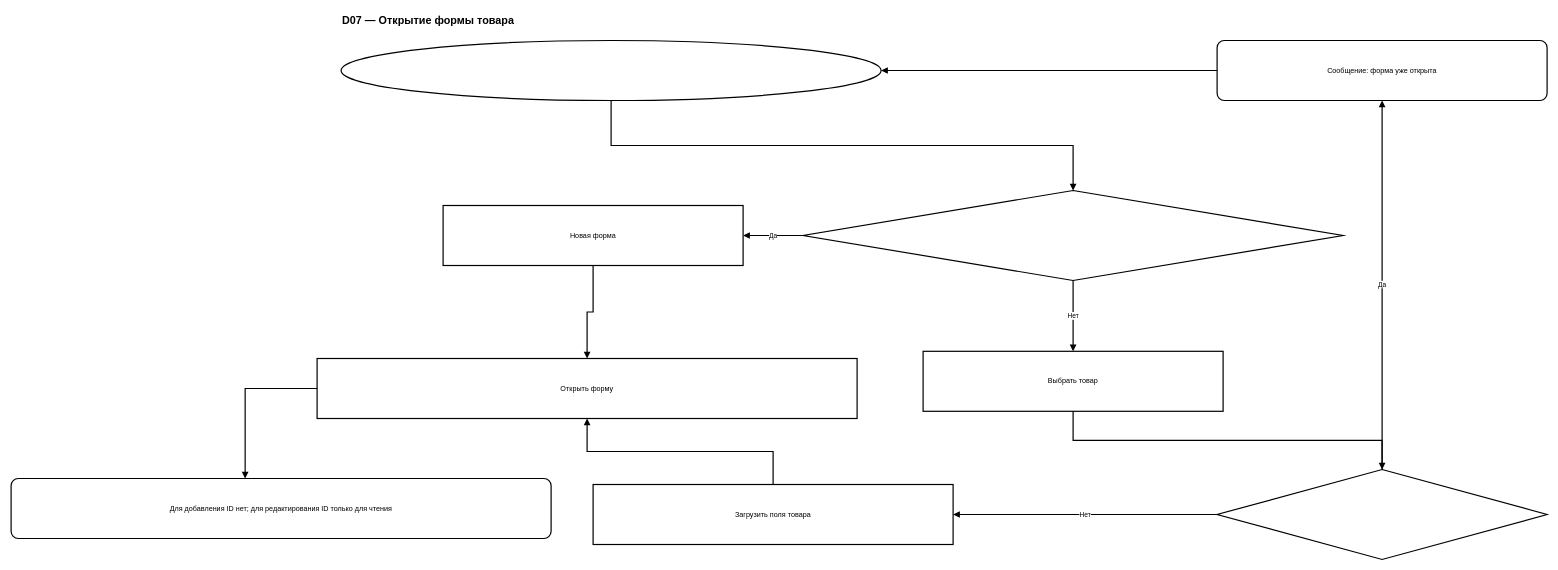
Image size: 1558x570. Some labels were removed from this diagram. The centre of each missing label's shape, as x and y in pixels:
«Добавить товар»?: the point at 1072,235
Каталог администратора: the point at 610,70
Форма уже открыта?: the point at 1381,514
